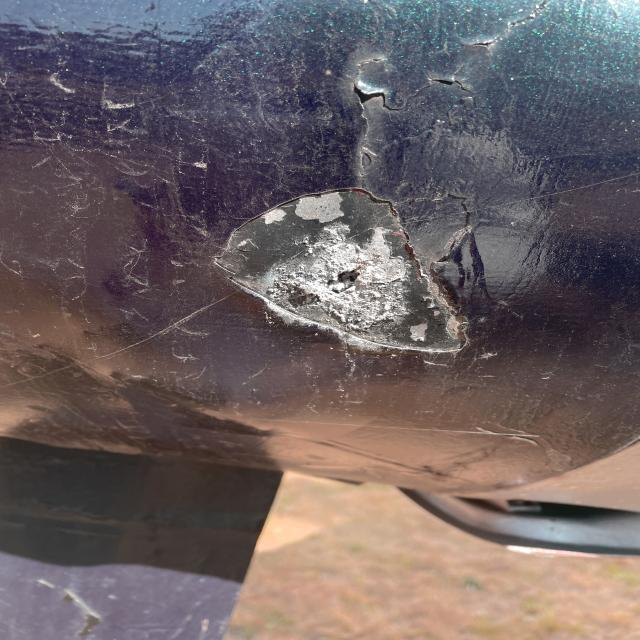crack: (448, 3, 555, 51), (346, 80, 404, 119), (428, 69, 483, 102)
dent: (193, 181, 478, 364)
